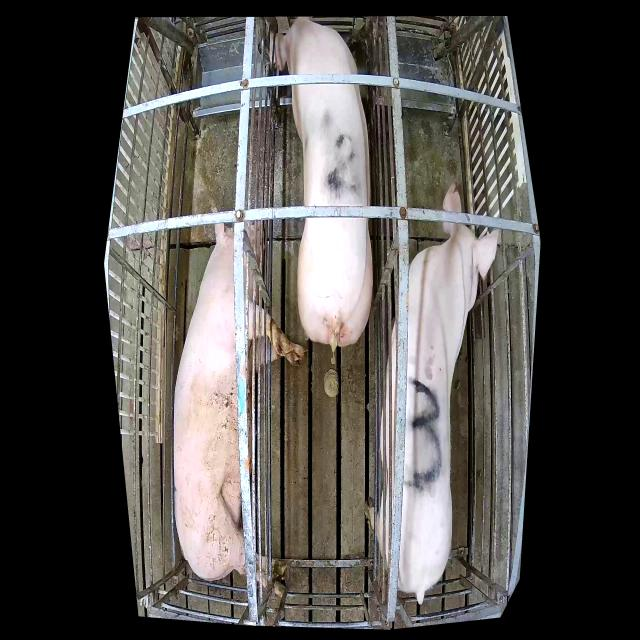pig: (362, 183, 500, 606), (174, 207, 308, 601), (269, 17, 373, 346)
